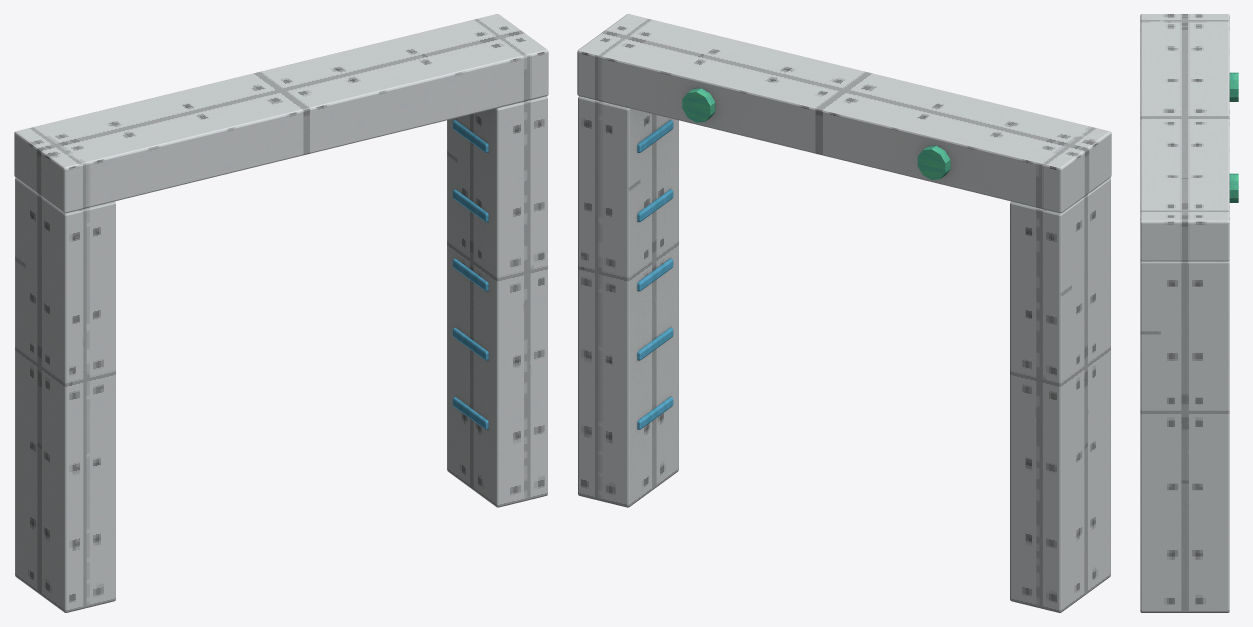
Rendered from base_scan_gate.glb.
3 renders of one model, left to right at view 1: azimuth 30°, elevation 25°; view 2: azimuth 150°, elevation 25°; view 3: azimuth 270°, elevation 25°, orthographic. The views are drawn at different scales.
Visible parts, largest first — view 1: base_scan_gate.001; view 2: base_scan_gate.001; view 3: base_scan_gate.001.
Part boxes in pixels (x1=…): base_scan_gate.001: x1=14, y1=14, x2=548, y2=612; base_scan_gate.001: x1=577, y1=14, x2=1111, y2=612; base_scan_gate.001: x1=1140, y1=14, x2=1238, y2=612.
Bounding box in the file's own units: 3.3 × 2.9 × 0.66.
Materials: 3 (3 with a texture image).
